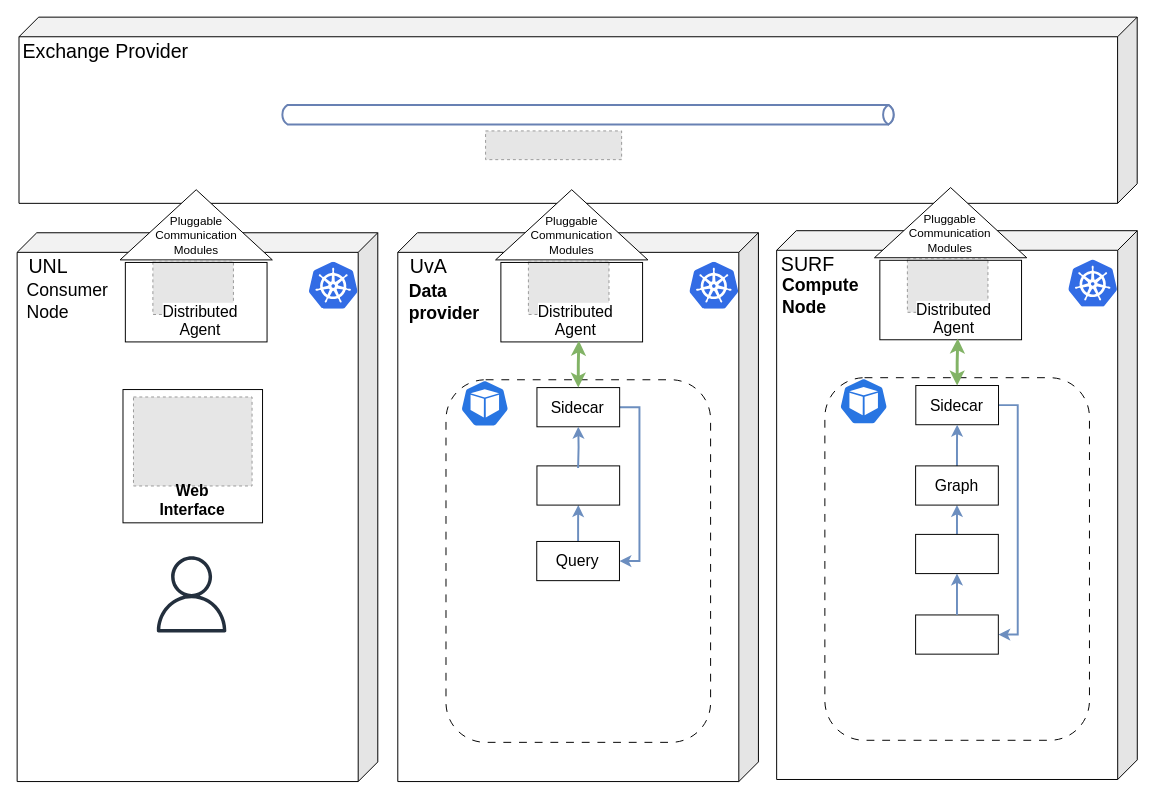
Image size: 1154x799. Some labels were removed from this diagram. Grey dashed boxes stand in for pictures. The shapes that lost their labels are listed below. From the top down, each one's centre as x and y in pixels, then its label:
At (578,485): "Anonymize".
At (956,553): "Algorithm".
At (956,634): "Aggregate".
